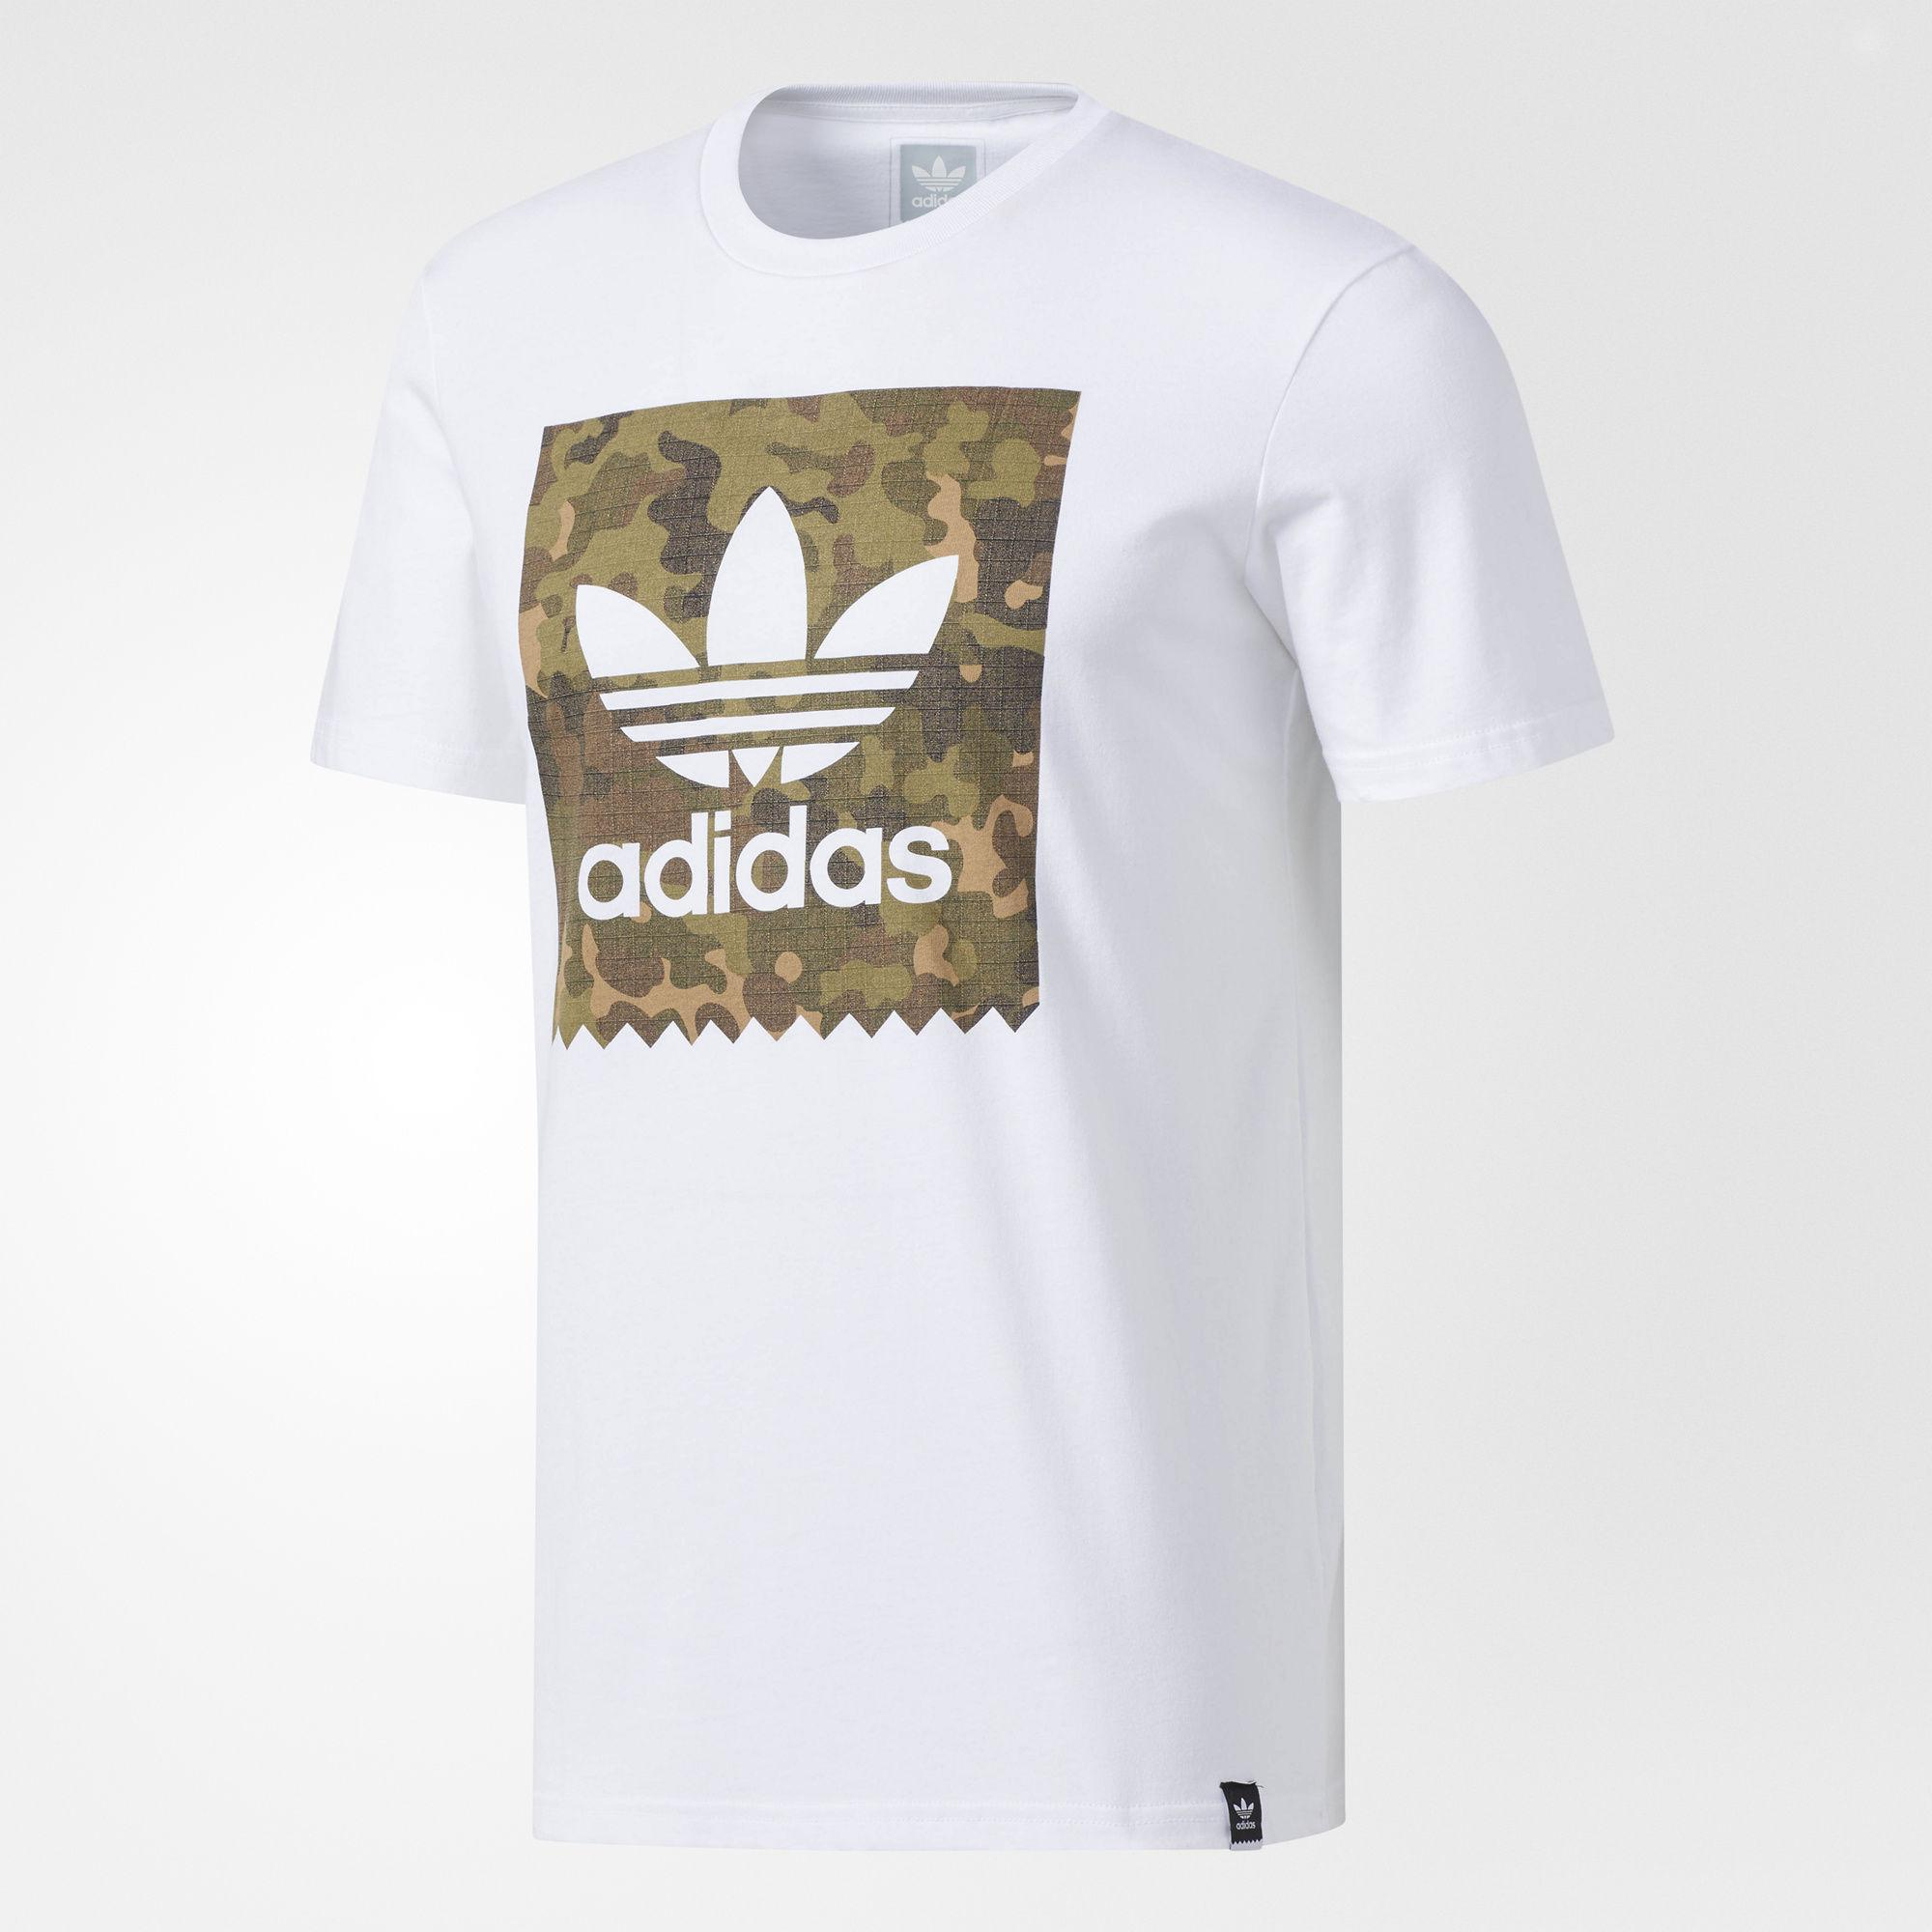teeshirt: (285, 30, 1688, 1884)
